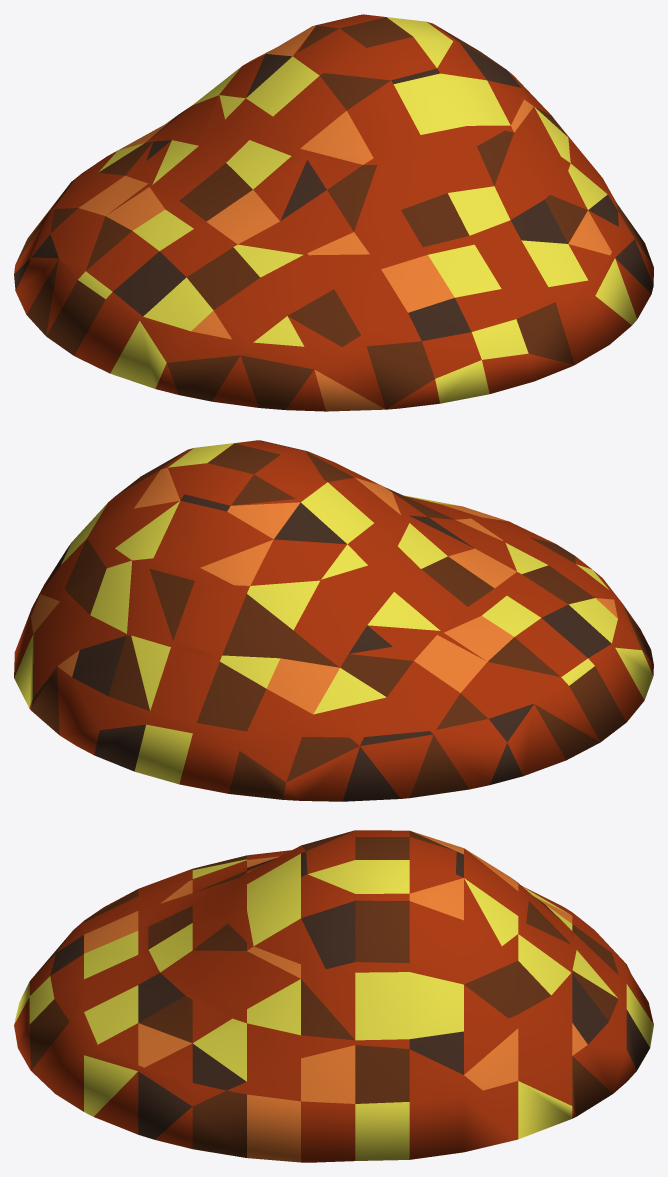
The model's file is Leaf Pile.glb.
3 views of the same model, one above another, from view 1: azimuth 30°, elevation 25°; view 2: azimuth 150°, elevation 25°; view 3: azimuth 270°, elevation 25° (orthographic).
Visible parts, largest first — view 1: Leaf Pile; view 2: Leaf Pile; view 3: Leaf Pile.
Part boxes in pixels (x1=…): Leaf Pile: x1=14, y1=14, x2=653, y2=411; Leaf Pile: x1=14, y1=440, x2=653, y2=801; Leaf Pile: x1=14, y1=830, x2=653, y2=1162.
Size of the model in its own units: 1.31 by 0.4769 by 1.31.
